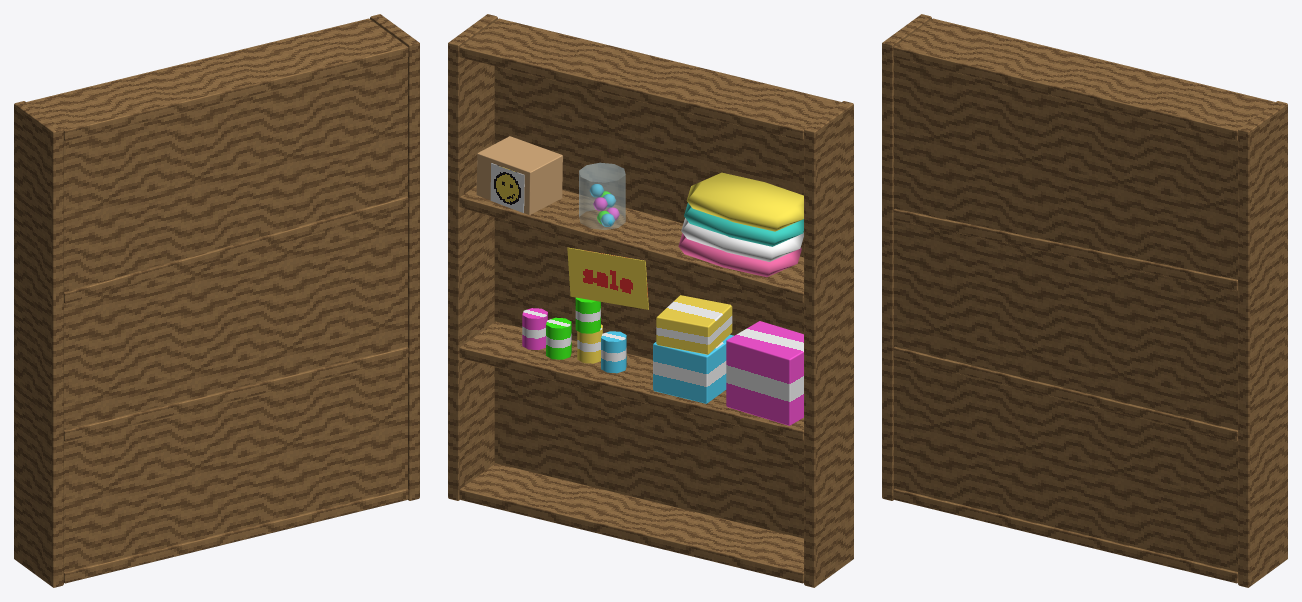
File: s_shelf_wall.glb
3 renders of one model, left to right at view 1: azimuth 30°, elevation 25°; view 2: azimuth 150°, elevation 25°; view 3: azimuth 330°, elevation 25°, orthographic.
Parts seen in each view (by area): view 1: s_shelf_wall_mesh; view 2: s_shelf_wall_mesh; view 3: s_shelf_wall_mesh.
Part boxes in pixels (box(x1,y1,x2,y2)): s_shelf_wall_mesh: box(14, 14, 419, 587); s_shelf_wall_mesh: box(448, 14, 853, 587); s_shelf_wall_mesh: box(882, 14, 1287, 587).
Size of what is drawn, in the model's own units: 1.6 by 1.9 by 0.32.
Materials: 11 (10 with a texture image).
